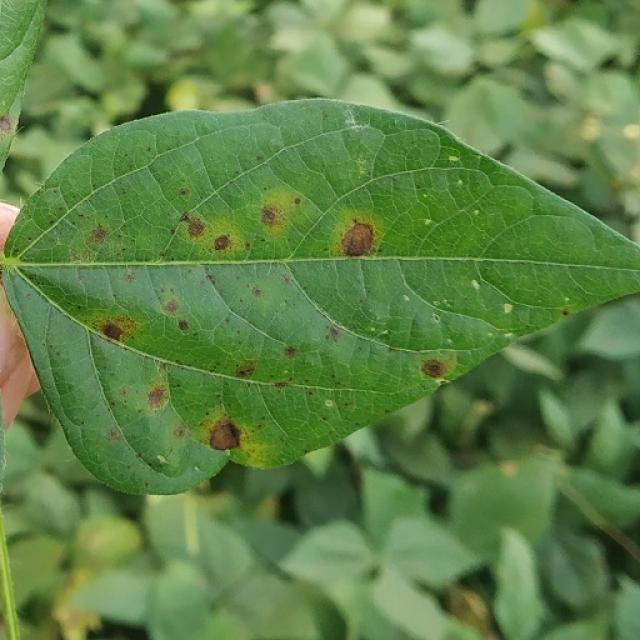Anthracnose: (189, 399, 256, 461), (181, 213, 248, 259), (69, 216, 132, 264), (256, 188, 308, 245), (335, 206, 385, 257), (90, 312, 140, 346), (419, 351, 457, 381), (180, 212, 206, 240), (147, 385, 167, 410), (235, 362, 255, 379), (162, 300, 178, 315), (0, 116, 13, 134)
Blackgram: (6, 100, 639, 492)
